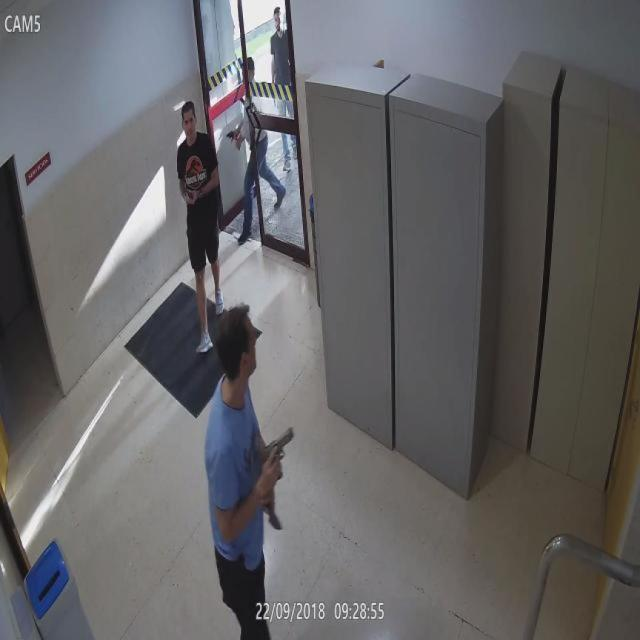pistol: (260, 424, 296, 490), (180, 183, 197, 204), (224, 126, 240, 142)
